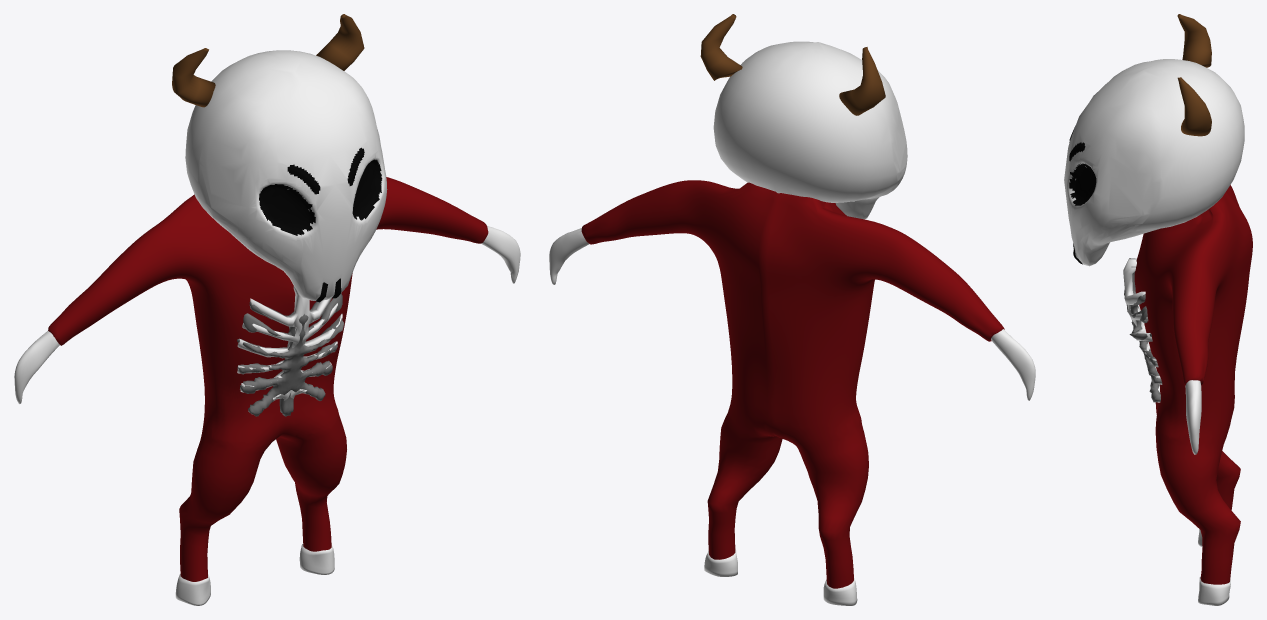
File: singleunitupdatedcolored.fbx
3 renders of one model, left to right at view 1: azimuth 30°, elevation 25°; view 2: azimuth 150°, elevation 25°; view 3: azimuth 270°, elevation 25°, orthographic. The views are drawn at different scales.
Parts seen in each view (by area): view 1: Body, head, Bone.001, eye, Horns, Bone, Hands, Feet, eyebrow; view 2: Body, head, Horns, Hands, Feet; view 3: Body, head, Horns, Bone.001, Hands, Bone, eye, Feet.
Part boxes in pixels (x1,y1,x2,y2): Body: (48,177,488,581); head: (185,50,387,300); Bone.001: (237,293,344,416); eye: (259,159,382,235); Horns: (172,14,364,107); Bone: (237,286,342,414); Hands: (14,226,520,403); Feet: (175,544,334,605); eyebrow: (287,147,364,194); Body: (581,180,1004,588); head: (713,41,907,219); Horns: (700,14,885,115); Hands: (549,228,1035,400); Feet: (704,548,857,605); Body: (1134,185,1252,584); head: (1064,59,1244,266); Horns: (1177,14,1211,136); Bone.001: (1124,266,1162,402); Hands: (1185,380,1201,454); Bone: (1123,258,1162,402); eye: (1069,163,1096,205); Feet: (1198,529,1230,605).
Bounding box in the file's own units: 441 × 472 × 153.
